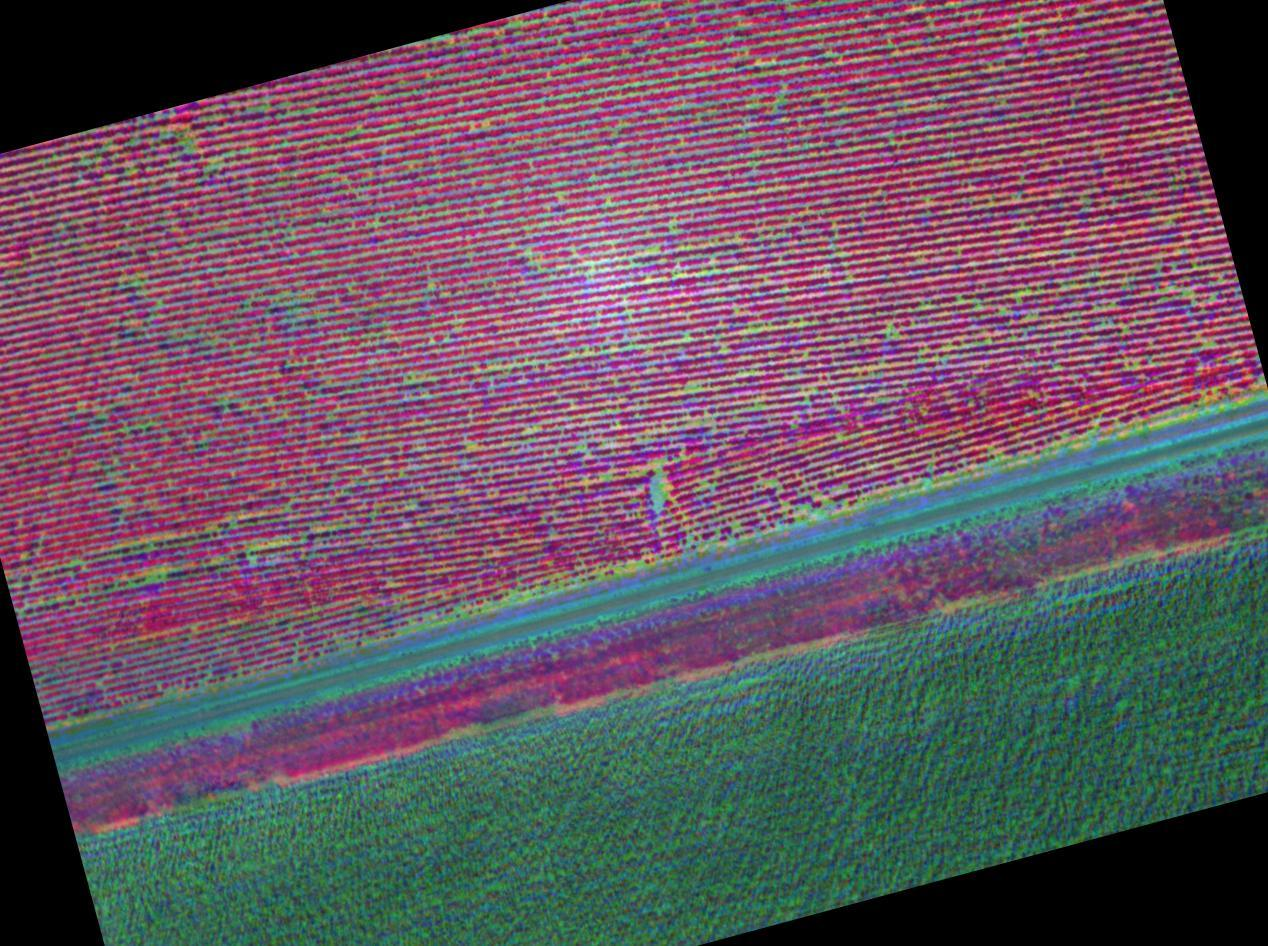dc: (655, 484, 661, 491), (150, 575, 155, 580), (648, 249, 653, 253), (1019, 23, 1022, 27), (467, 442, 471, 445), (648, 279, 651, 282), (405, 381, 408, 384), (686, 389, 689, 392), (527, 431, 530, 434)
